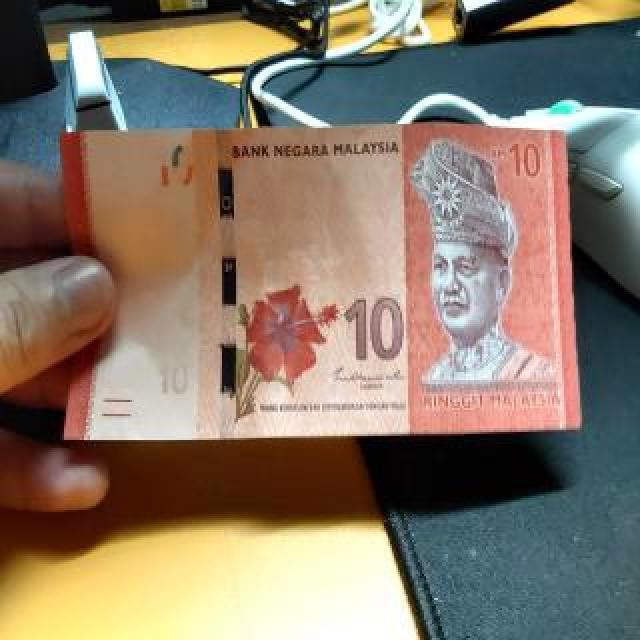10 Ringgit: (56, 126, 592, 445)
